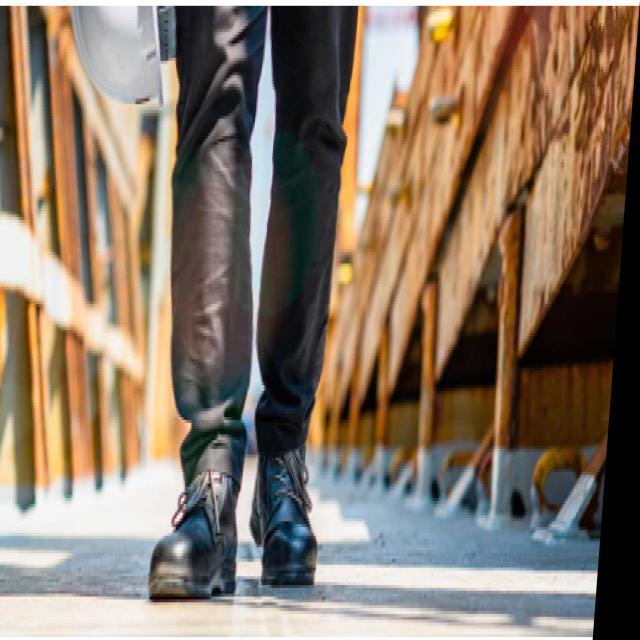shoes: (142, 423, 329, 603)
